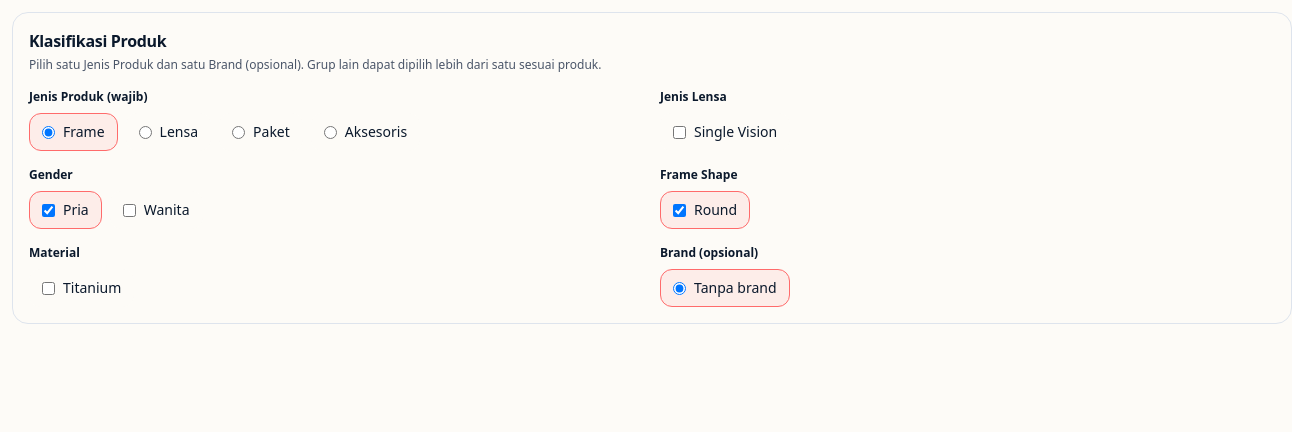
Test: Accessories is available as a product kind and an independent catalog filter
Click the radio button labelled "Aksesoris": {"x": 330, "y": 132} [324, 126, 337, 138]
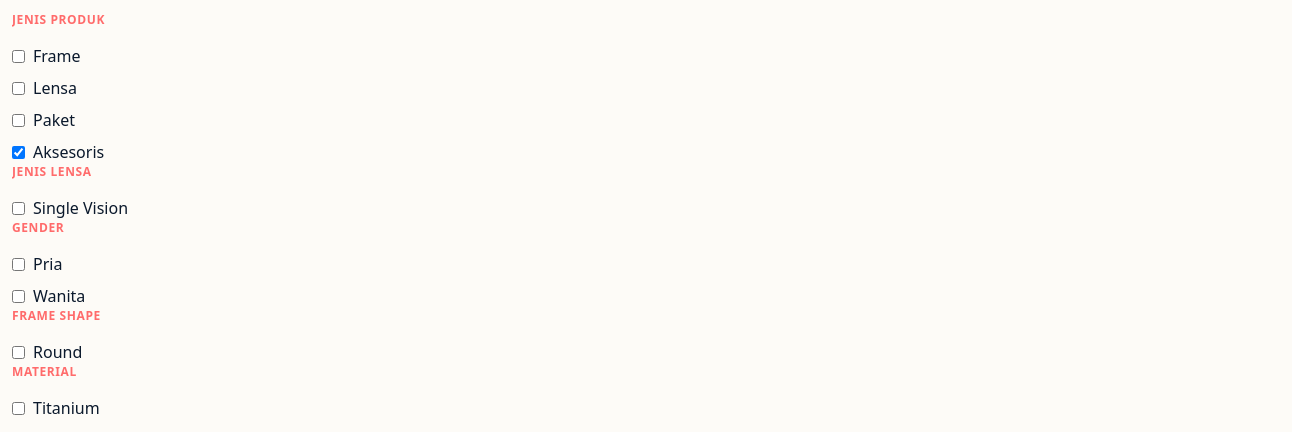
Result: the checkbox with test id "filter-master-accessories" is checked at [12, 146, 25, 158]
